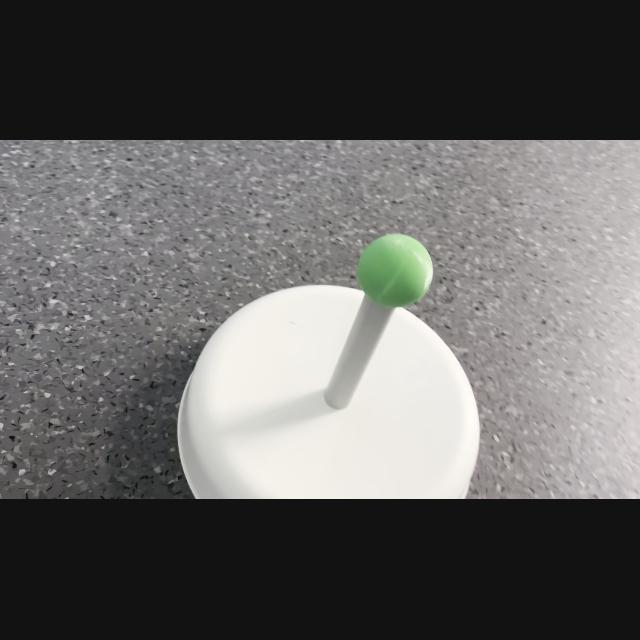objects: (352, 228, 438, 312)
